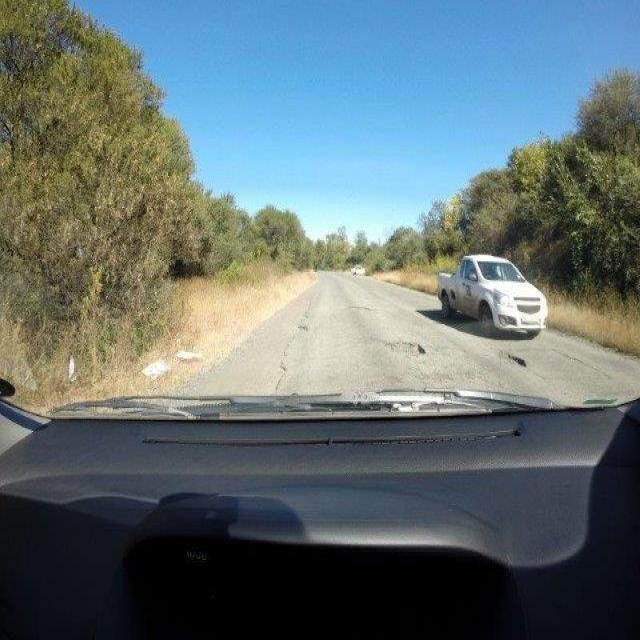jalan retak: (550, 341, 614, 381), (345, 298, 393, 318)
lubang: (382, 335, 430, 360), (496, 348, 539, 373)
